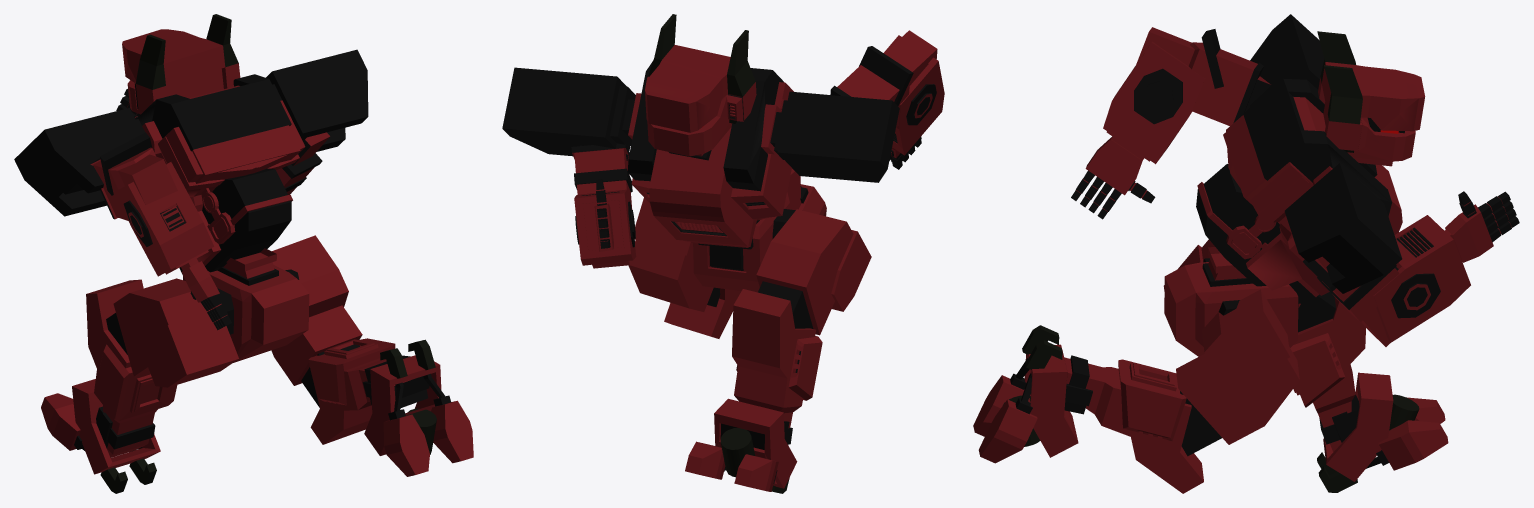
Rendered from walk0.obj.
The picture shows the model from 3 angles, left to right: view 1: azimuth 30°, elevation 25°; view 2: azimuth 150°, elevation 25°; view 3: azimuth 270°, elevation 25°; orthographic projection. The views are drawn at different scales.
Visible parts, largest first — view 1: R_UpperShoulder_Cube.030; view 2: R_UpperShoulder_Cube.030; view 3: R_UpperShoulder_Cube.030.
Part boxes in pixels (bbox=[...]): R_UpperShoulder_Cube.030: bbox=[14, 14, 473, 493]; R_UpperShoulder_Cube.030: bbox=[502, 14, 944, 493]; R_UpperShoulder_Cube.030: bbox=[973, 14, 1519, 493].
Bounding box in the file's own units: 1.44 × 1.73 × 1.83.
